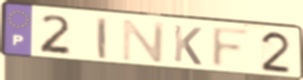2: (258, 30, 293, 76), (39, 14, 74, 57)
F: (210, 25, 254, 70)
I: (95, 15, 109, 61)
K: (172, 23, 204, 67)
N: (120, 18, 167, 64)
